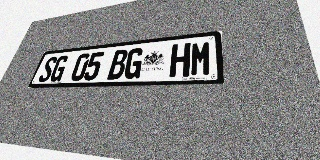0: (69, 53, 91, 81)
5: (83, 51, 105, 81)
B: (107, 49, 129, 80)
G: (123, 47, 145, 79), (48, 55, 70, 82)
H: (169, 43, 191, 77)
M: (190, 40, 212, 76)
S: (37, 56, 58, 82)
